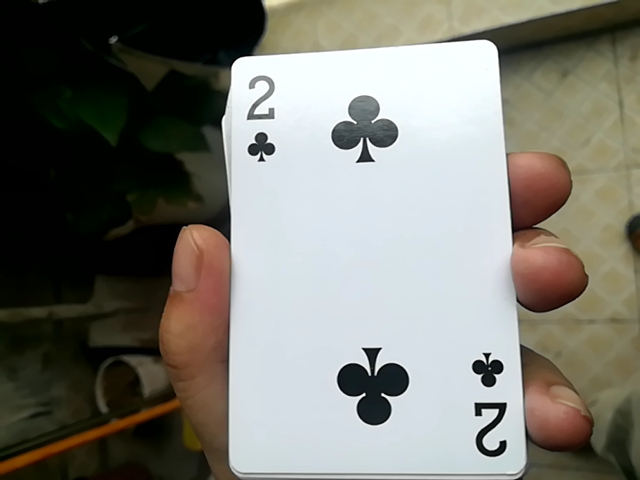mh 2: (216, 37, 523, 474)
